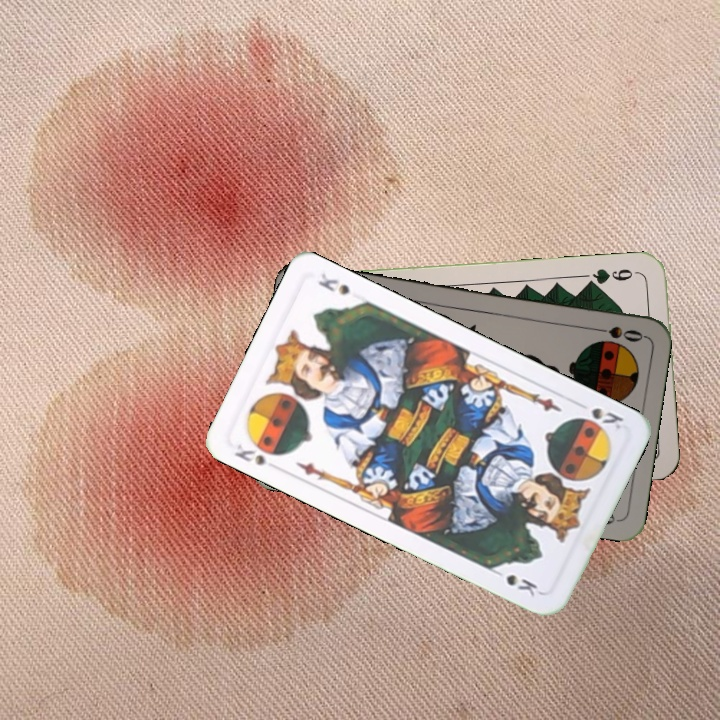G9: (583, 264, 641, 289)
SK: (230, 436, 284, 468), (587, 403, 626, 432)
SO: (587, 322, 646, 345)
